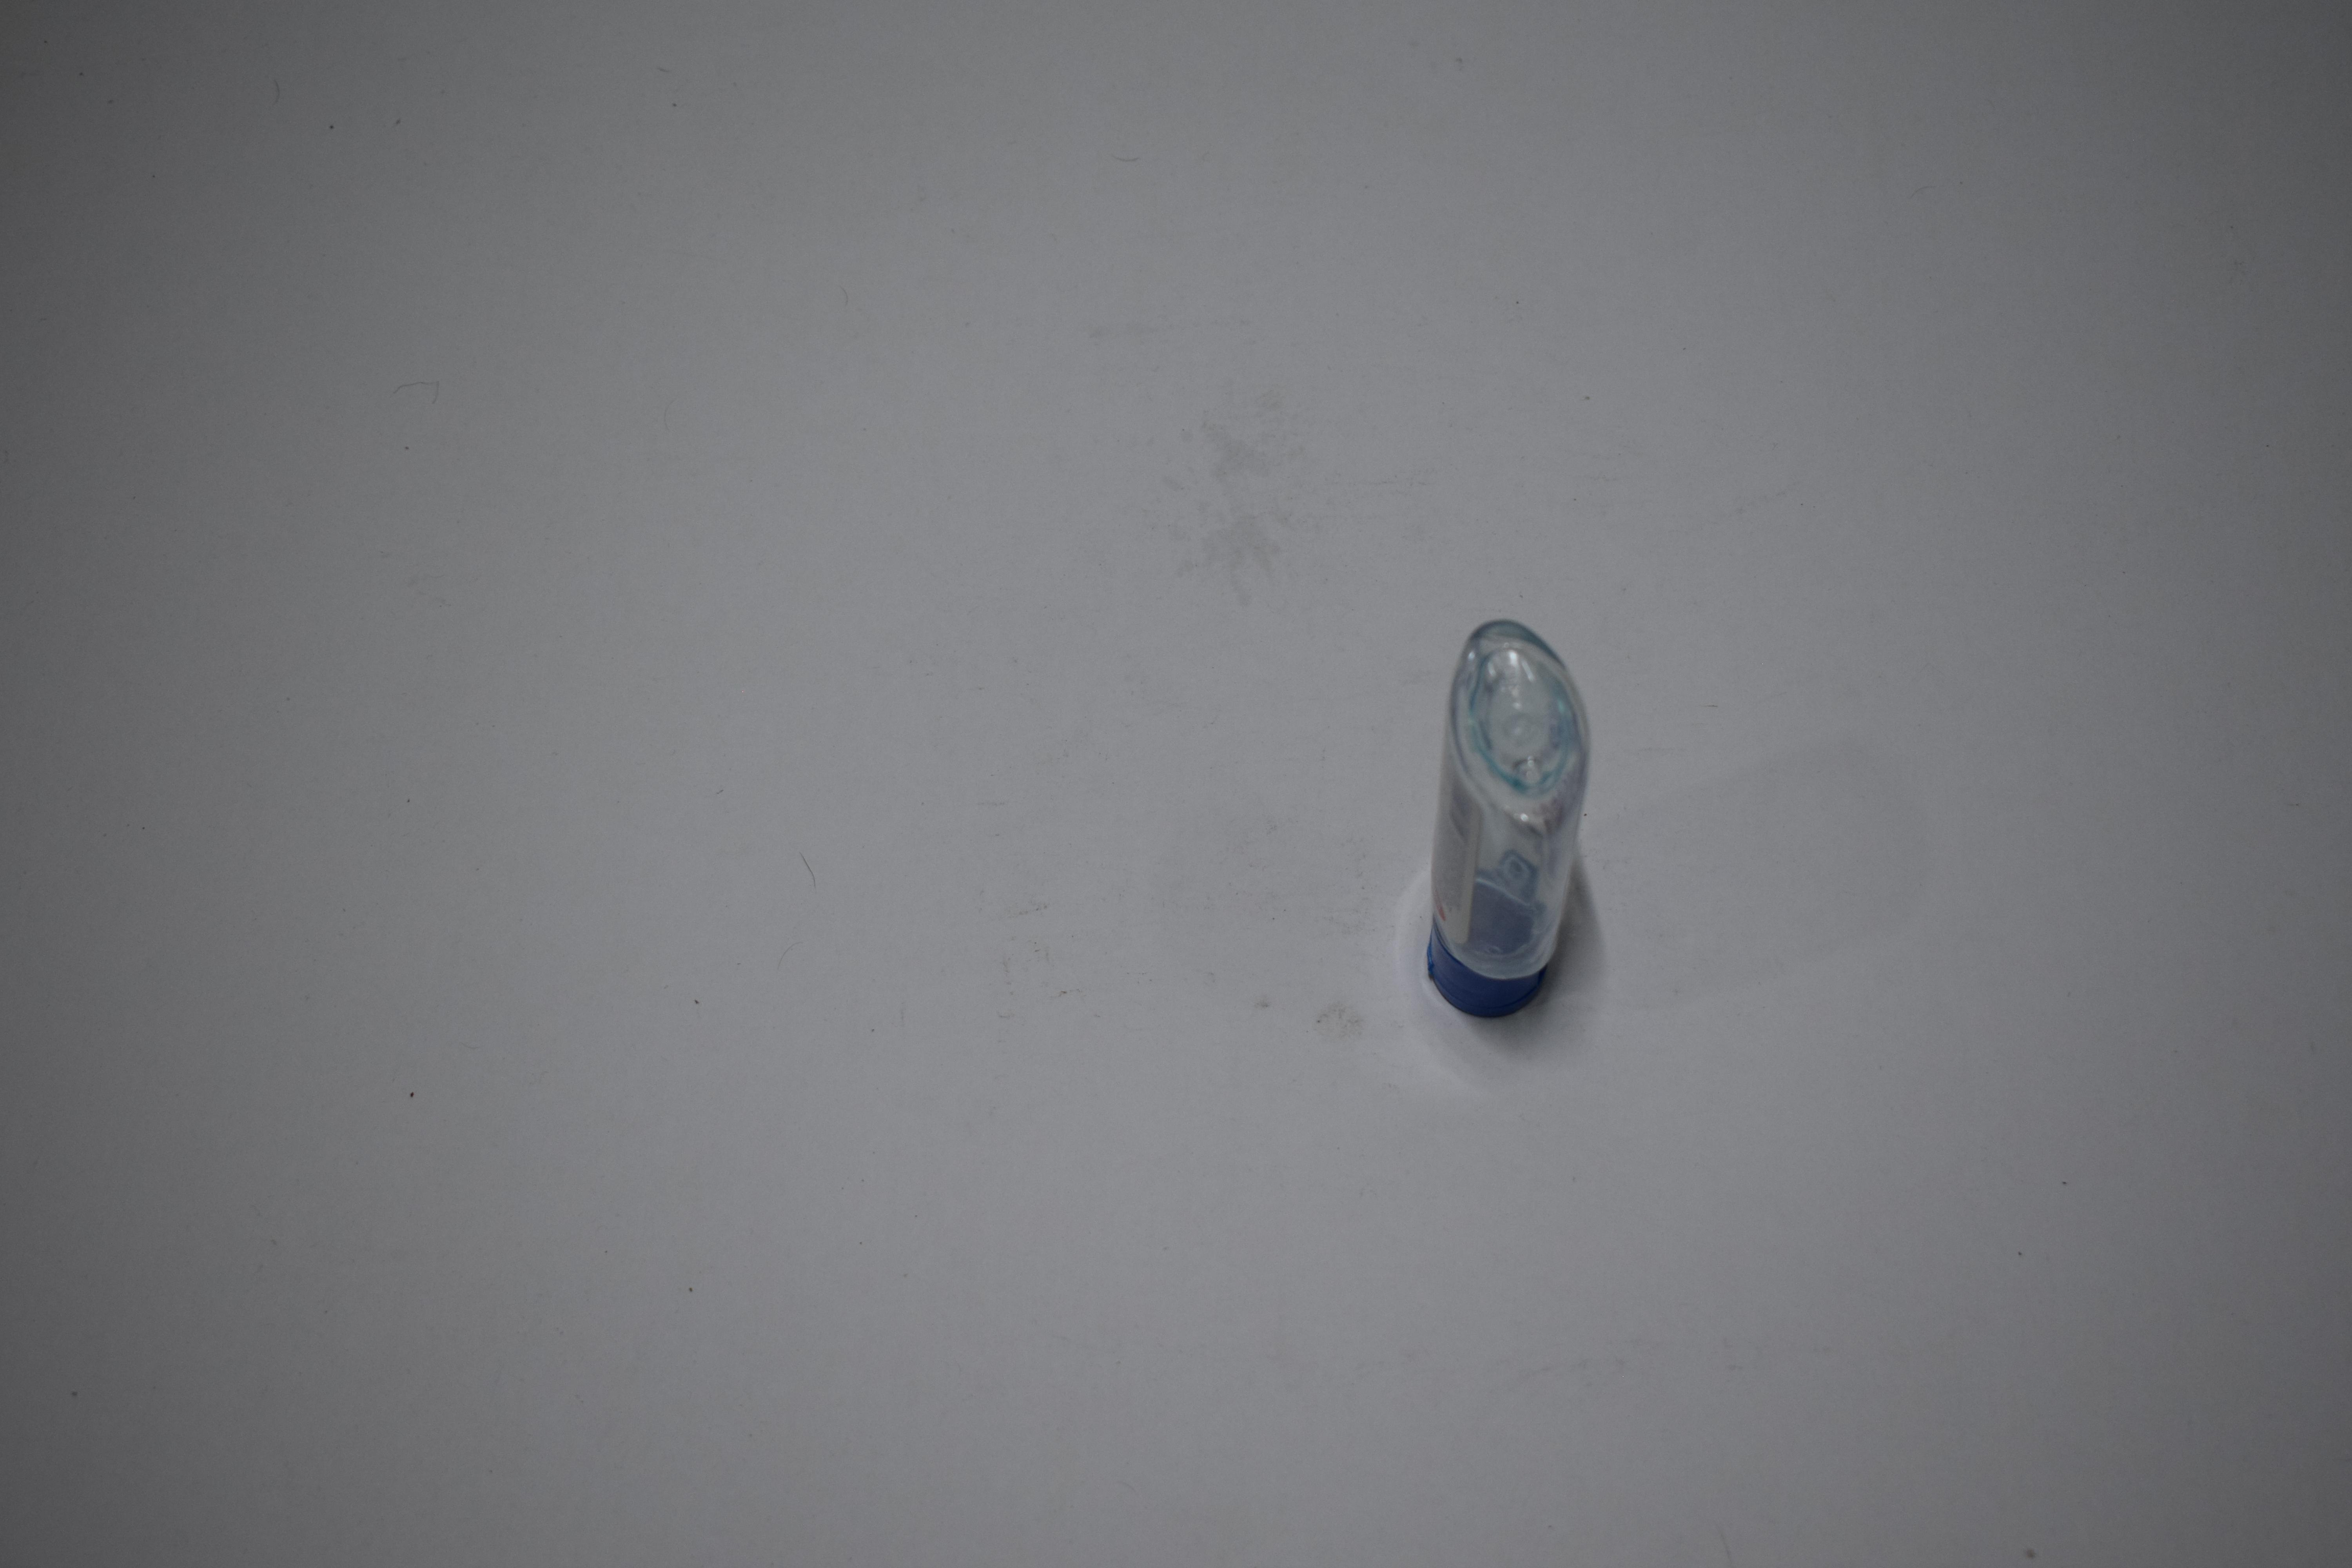bottle: (1423, 0, 1603, 247)
